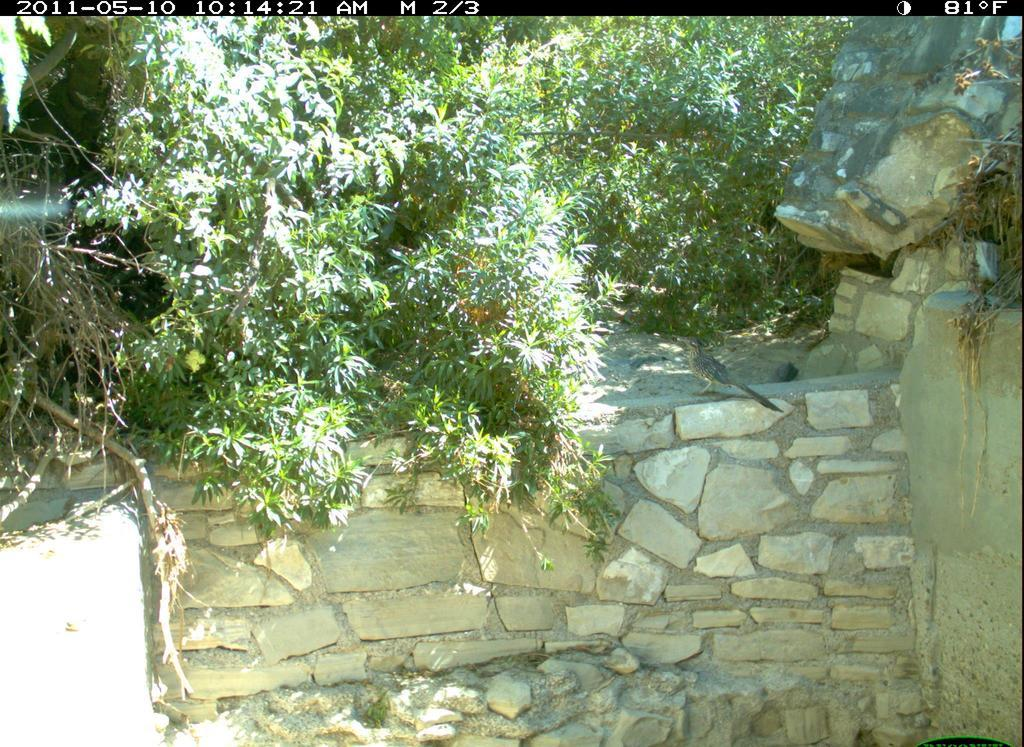bird: (676, 332, 788, 420)
